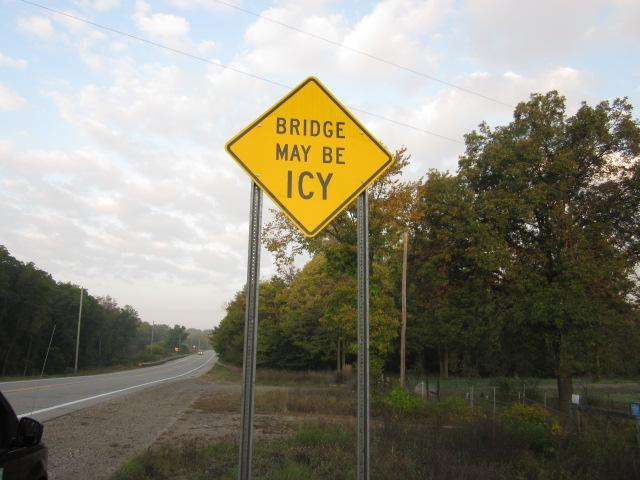warning: (225, 73, 399, 240)
